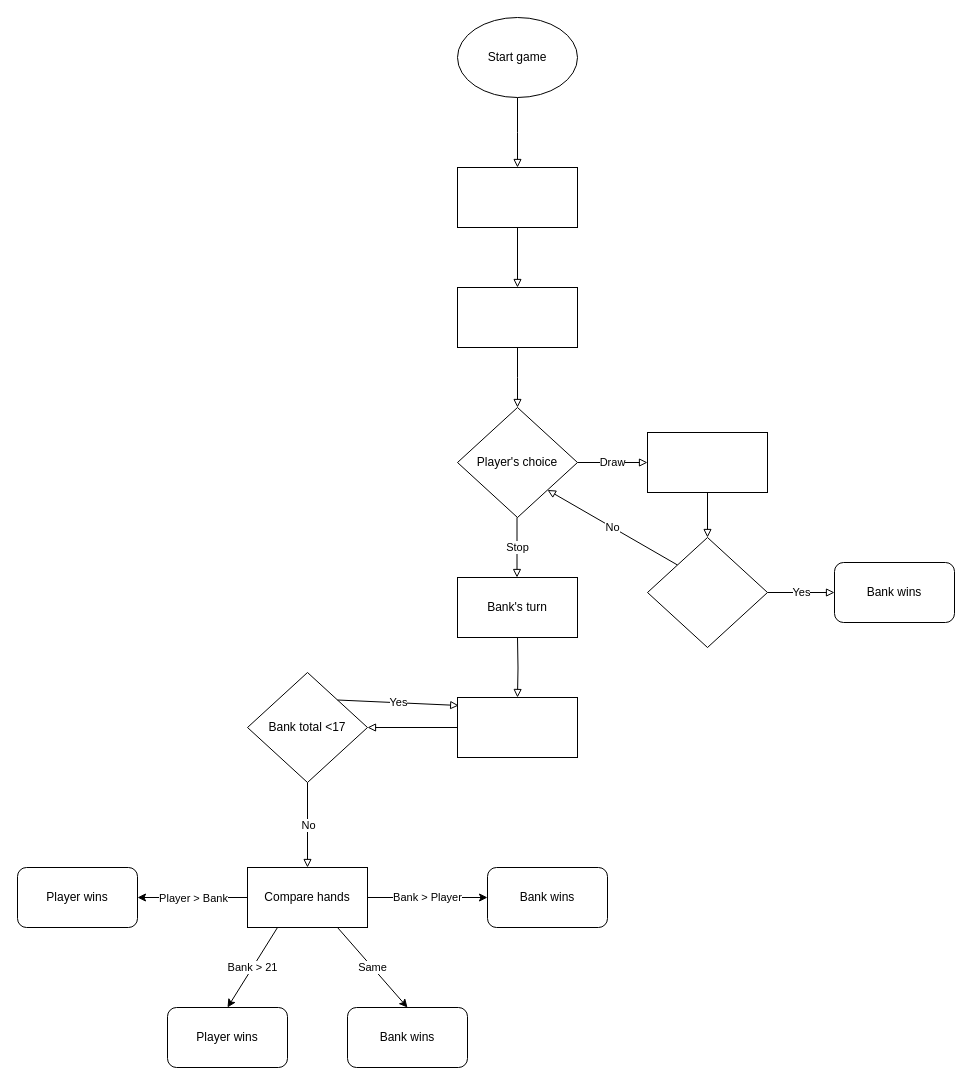
This 972x1085 diagram has some shape labels left out. The centre of each missing label's shape, as x and y in pixels:
"Bank draws a card" goes at (x=517, y=727).
"Draw another" goes at (x=707, y=462).
"Game plan" goes at (x=517, y=197).
"Over 21?" goes at (x=707, y=592).
"Player draws a card" goes at (x=517, y=317).
